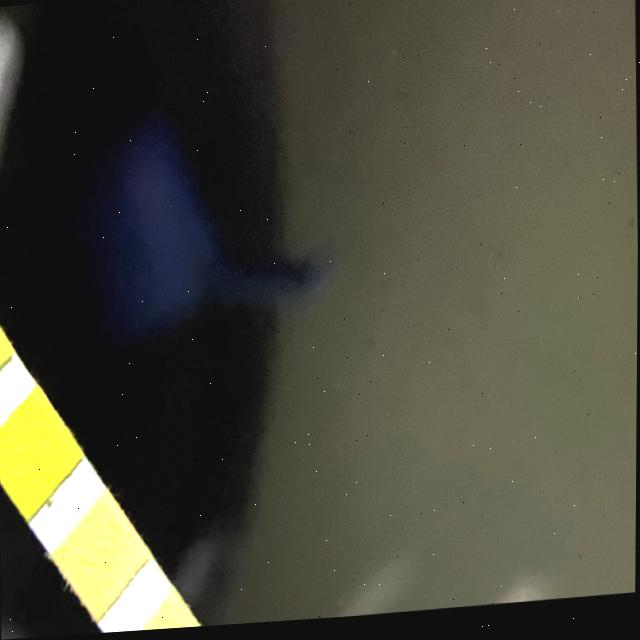Blood: (3, 417, 63, 487)
Protein: (144, 620, 199, 632)
pH: (76, 522, 131, 589)
